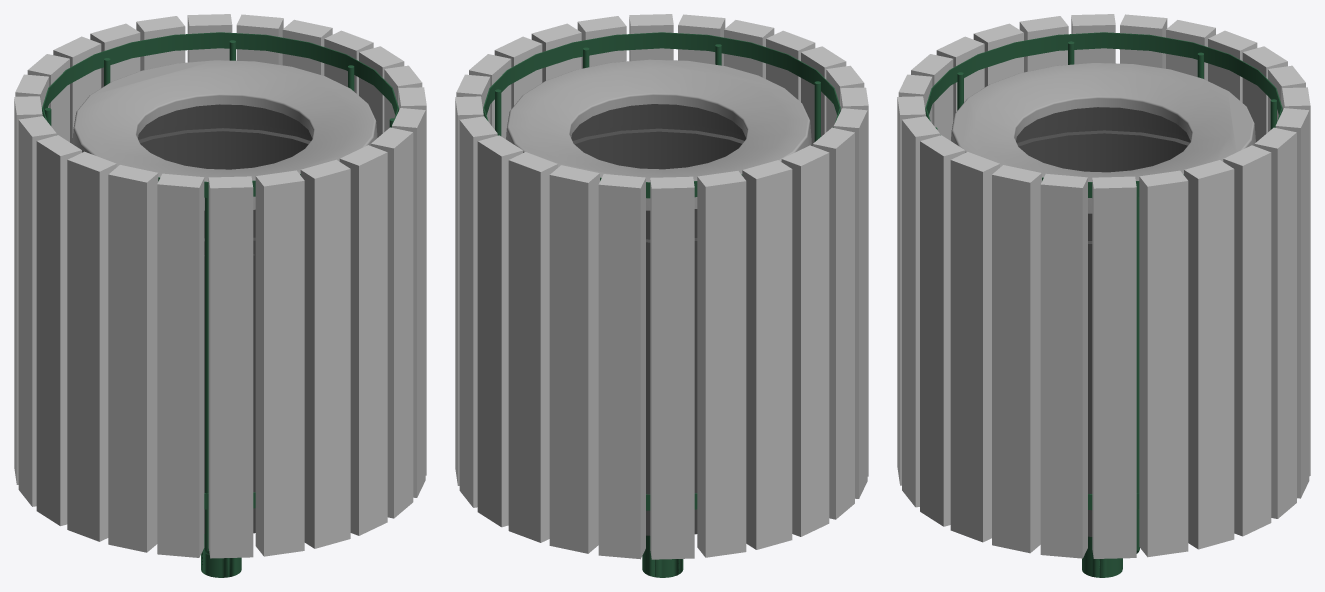
3 views of the same model, side by side, from view 1: azimuth 30°, elevation 25°; view 2: azimuth 150°, elevation 25°; view 3: azimuth 270°, elevation 25° (orthographic).
Visible parts, largest first — view 1: mesh94_mesh94-geometry, mesh131_mesh131-geometry, mesh123_mesh123-geometry, mesh122_mesh122-geometry, mesh141_mesh141-geometry, mesh134_mesh134-geometry, mesh121_mesh121-geometry, mesh127_mesh127-geometry, mesh129_mesh129-geometry, mesh115_mesh115-geometry, mesh73_mesh73-geometry, mesh128_mesh128-geometry (+17 smaller); view 2: mesh94_mesh94-geometry, mesh136_mesh136-geometry, mesh140_mesh140-geometry, mesh139_mesh139-geometry, mesh130_mesh130-geometry, mesh126_mesh126-geometry, mesh138_mesh138-geometry, mesh128_mesh128-geometry, mesh109_mesh109-geometry, mesh73_mesh73-geometry, mesh129_mesh129-geometry, mesh132_mesh132-geometry (+16 smaller); view 3: mesh94_mesh94-geometry, mesh107_mesh107-geometry, mesh117_mesh117-geometry, mesh135_mesh135-geometry, mesh137_mesh137-geometry, mesh133_mesh133-geometry, mesh124_mesh124-geometry, mesh132_mesh132-geometry, mesh115_mesh115-geometry, mesh73_mesh73-geometry, mesh109_mesh109-geometry, mesh127_mesh127-geometry (+17 smaller).
Part boxes in pixels (<box>): mesh94_mesh94-geometry: <box>72,60,377,210</box>; mesh131_mesh131-geometry: <box>108,165,158,552</box>; mesh123_mesh123-geometry: <box>255,170,304,556</box>; mesh122_mesh122-geometry: <box>157,173,204,557</box>; mesh141_mesh141-geometry: <box>300,159,350,548</box>; mesh134_mesh134-geometry: <box>208,176,253,558</box>; mesh121_mesh121-geometry: <box>67,151,116,541</box>; mesh127_mesh127-geometry: <box>339,145,387,535</box>; mesh129_mesh129-geometry: <box>36,135,81,526</box>; mesh115_mesh115-geometry: <box>371,127,413,518</box>; mesh73_mesh73-geometry: <box>138,104,312,533</box>; mesh128_mesh128-geometry: <box>18,116,56,506</box>; mesh94_mesh94-geometry: <box>506,59,811,210</box>; mesh136_mesh136-geometry: <box>549,165,599,553</box>; mesh140_mesh140-geometry: <box>697,171,746,557</box>; mesh139_mesh139-geometry: <box>598,174,645,559</box>; mesh130_mesh130-geometry: <box>742,160,792,549</box>; mesh126_mesh126-geometry: <box>650,176,694,559</box>; mesh138_mesh138-geometry: <box>508,152,557,542</box>; mesh128_mesh128-geometry: <box>781,145,829,536</box>; mesh109_mesh109-geometry: <box>477,135,522,527</box>; mesh73_mesh73-geometry: <box>571,104,745,535</box>; mesh129_mesh129-geometry: <box>812,127,854,519</box>; mesh132_mesh132-geometry: <box>459,116,497,507</box>; mesh94_mesh94-geometry: <box>951,63,1255,213</box>; mesh107_mesh107-geometry: <box>1139,170,1188,557</box>; mesh117_mesh117-geometry: <box>992,165,1041,553</box>; mesh135_mesh135-geometry: <box>1040,173,1087,558</box>; mesh137_mesh137-geometry: <box>1184,160,1234,549</box>; mesh133_mesh133-geometry: <box>1092,176,1136,558</box>; mesh124_mesh124-geometry: <box>950,152,999,542</box>; mesh132_mesh132-geometry: <box>1223,145,1271,536</box>; mesh115_mesh115-geometry: <box>920,135,965,526</box>; mesh73_mesh73-geometry: <box>1016,107,1190,536</box>; mesh109_mesh109-geometry: <box>1254,127,1296,518</box>; mesh127_mesh127-geometry: <box>902,116,939,507</box>.
Size of the model in its own units: 0.5297 by 0.6624 by 0.5297.
